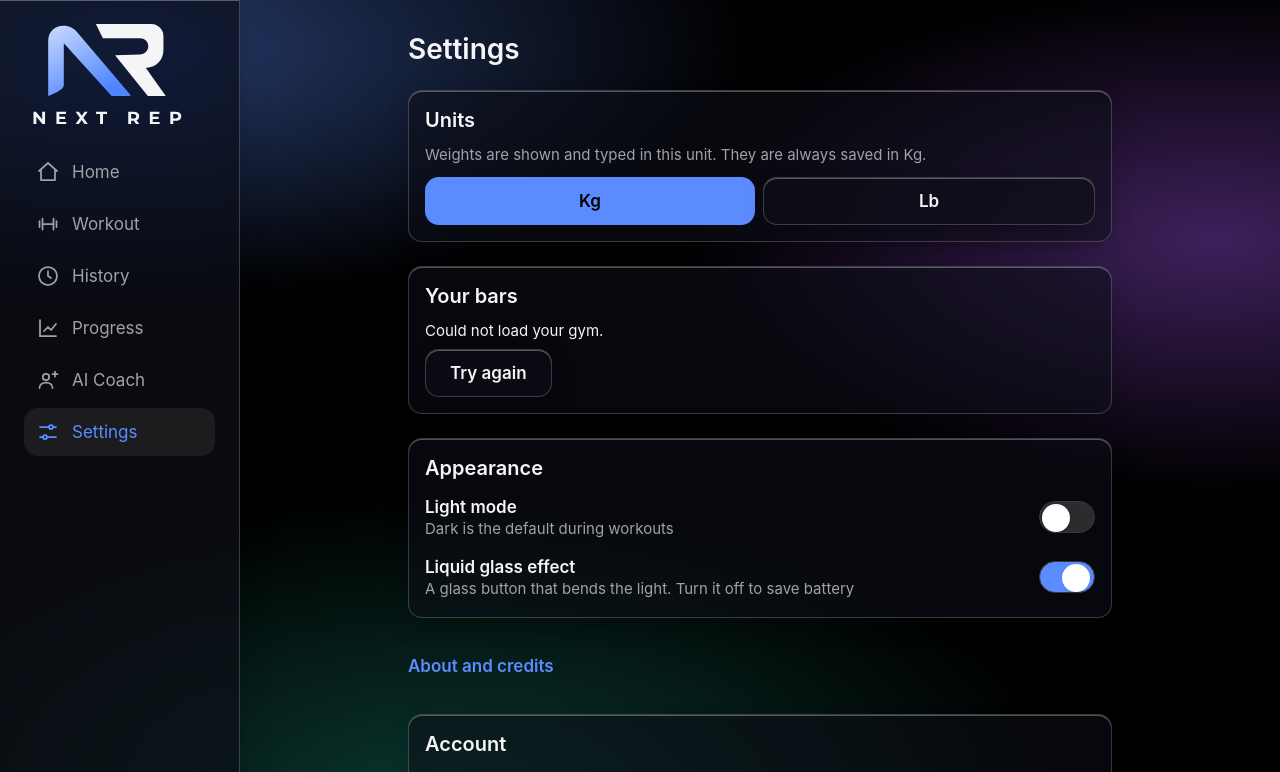
Scenario: your bars › says so, and can retry, when the gym cannot be loaded and none is saved
Expected: the message shows "Could not load your gym", [425, 321, 603, 340]
Click the button "Try again": point(488, 373) [425, 349, 552, 397]
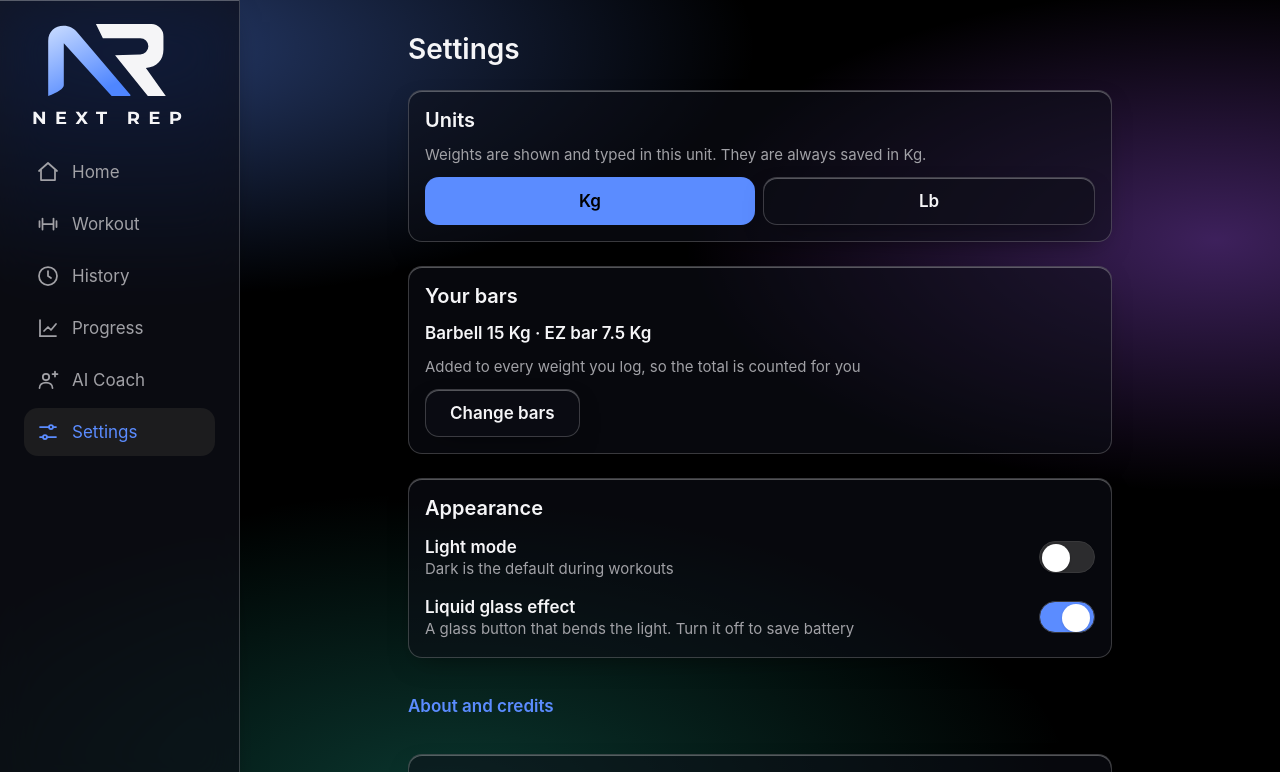
Expected: the text "Barbell 15 Kg · EZ bar 7.5 Kg" is shown, [425, 323, 651, 343]
